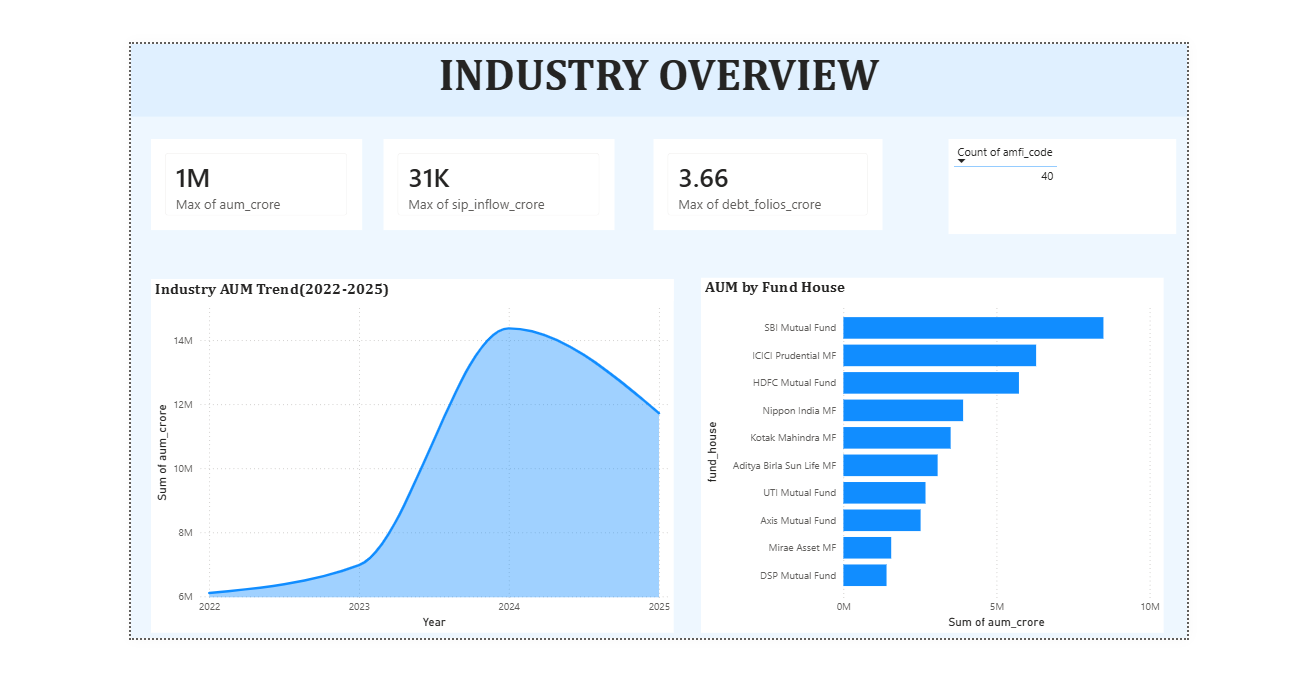

The dashboard page shown, as its layout file describes it:
{"tool":"powerbi","page":{"name":"Industry Overview","canvas":[1280,720],"ordinal":0},"visuals":[{"type":"cardVisual","fields":{"Data":["Max(03_aum_by_fund_house.aum_crore)"]},"box":[77.8,129.6,198.8,111.1],"z":0},{"type":"cardVisual","fields":{"Data":["Max(04_monthly_sip_inflows.sip_inflow_crore)"]},"box":[407.4,129.6,232.1,111.1],"z":1000},{"type":"cardVisual","fields":{"Data":["Max(06_industry_folio_count.total_folios_crore)"]},"box":[749.4,129.6,239.5,111.1],"z":2000},{"type":"tableEx","fields":{"Values":["01_fund_master.Total Schemes"]},"box":[1077.8,129.6,128.4,102.5],"z":3000},{"type":"textbox","box":[0,0,1279.7,88.1],"z":4000},{"type":"lineChart","title":"Industry AUM Trend(2022-2025)","fields":{"Category":["03_aum_by_fund_house.date.Variation.Date Hierarchy.Year","03_aum_by_fund_house.date.Variation.Date Hierarchy.Quarter","03_aum_by_fund_house.date.Variation.Date Hierarchy.Month","03_aum_by_fund_house.date.Variation.Date Hierarchy.Day"],"Y":["Sum(03_aum_by_fund_house.aum_crore)"]},"box":[23.5,282.7,634.6,428.4],"z":5000},{"type":"clusteredBarChart","title":"AUM by Fund House","fields":{"Category":["03_aum_by_fund_house.fund_house"],"Y":["Sum(03_aum_by_fund_house.aum_crore)"]},"box":[688.9,280.2,561.7,430.9],"z":6000}]}

Visuals, with their boxes on the page's 1280x720 design canvas (x1, y1, x2, y2). These are canvas units, not pixel positions in the 1290x690 screenshot, which may show the page scaled, cropped or inside an application window:
cardVisual - Max(03_aum_by_fund_house.aum_crore): {"x1": 78, "y1": 130, "x2": 277, "y2": 241}
cardVisual - Max(04_monthly_sip_inflows.sip_inflow_crore): {"x1": 407, "y1": 130, "x2": 640, "y2": 241}
cardVisual - Max(06_industry_folio_count.total_folios_crore): {"x1": 749, "y1": 130, "x2": 989, "y2": 241}
tableEx - 01_fund_master.Total Schemes: {"x1": 1078, "y1": 130, "x2": 1206, "y2": 232}
textbox: {"x1": 0, "y1": 0, "x2": 1280, "y2": 88}
"Industry AUM Trend(2022-2025)" lineChart: {"x1": 24, "y1": 283, "x2": 658, "y2": 711}
"AUM by Fund House" clusteredBarChart: {"x1": 689, "y1": 280, "x2": 1251, "y2": 711}
